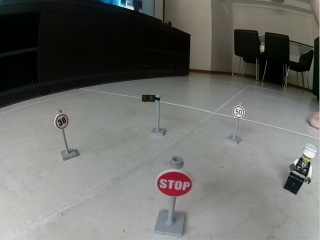Green Traffic Light: (141, 93, 166, 136)
Person: (283, 143, 317, 195)
Speed Limit 30: (53, 113, 69, 130)
Speed Limit 50: (232, 105, 246, 120)
Stop Sign: (155, 169, 194, 198)
